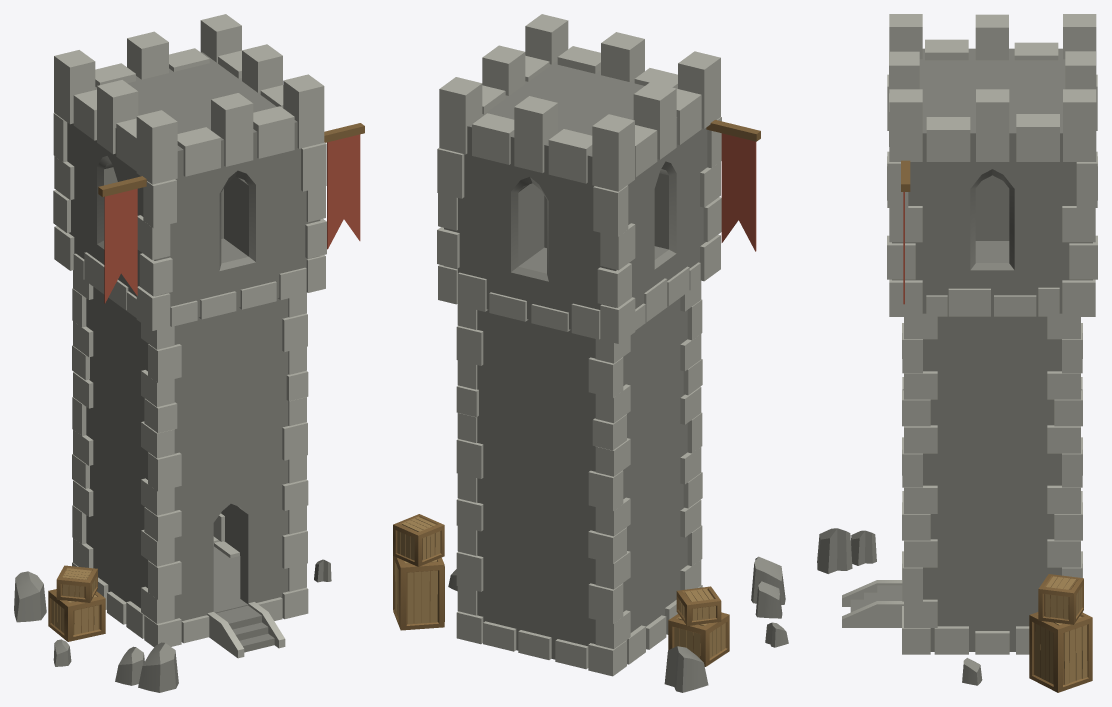
Rendered from Stone Tower.glb.
3 renders of one model, left to right at view 1: azimuth 30°, elevation 25°; view 2: azimuth 150°, elevation 25°; view 3: azimuth 270°, elevation 25°, orthographic. The views are drawn at different scales.
Parts seen in each view (by area): view 1: Stone Tower; view 2: Stone Tower; view 3: Stone Tower.
Part boxes in pixels (x1,y1,x2,y2): Stone Tower: [14, 14, 364, 692]; Stone Tower: [393, 14, 788, 692]; Stone Tower: [817, 14, 1097, 692].
Size of the model in its own units: 0.8384 by 1.36 by 0.6139.
